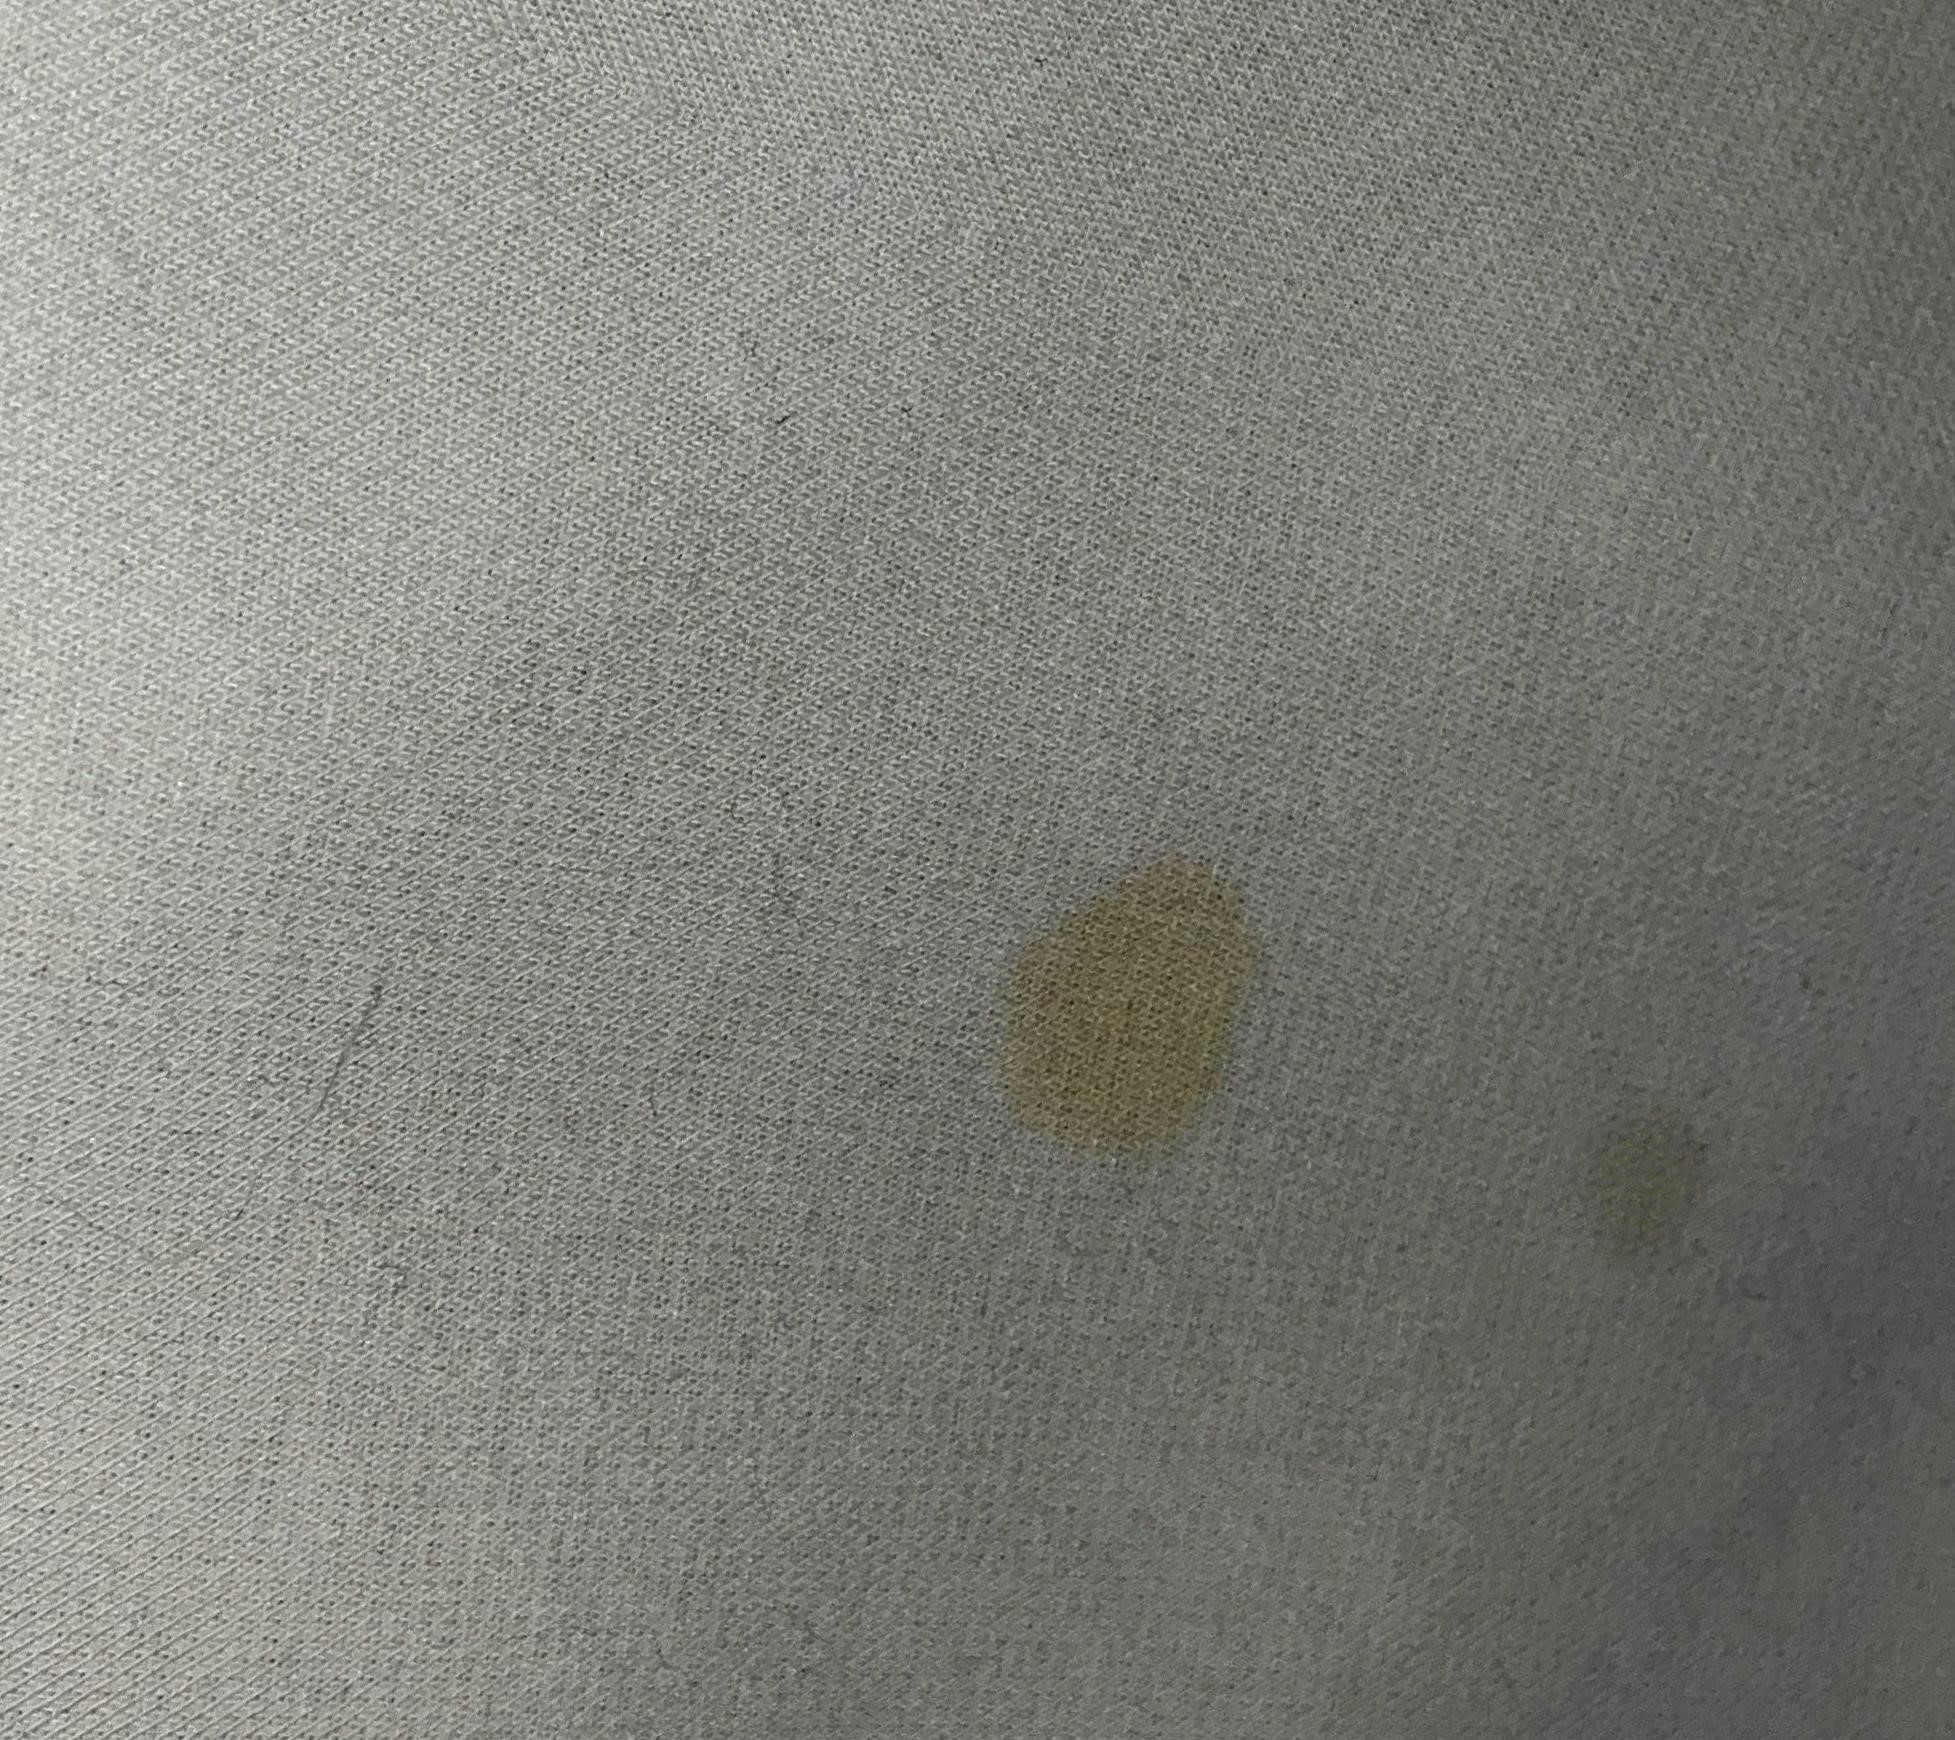stain: (969, 845, 1275, 1177), (1554, 1070, 1738, 1263)
